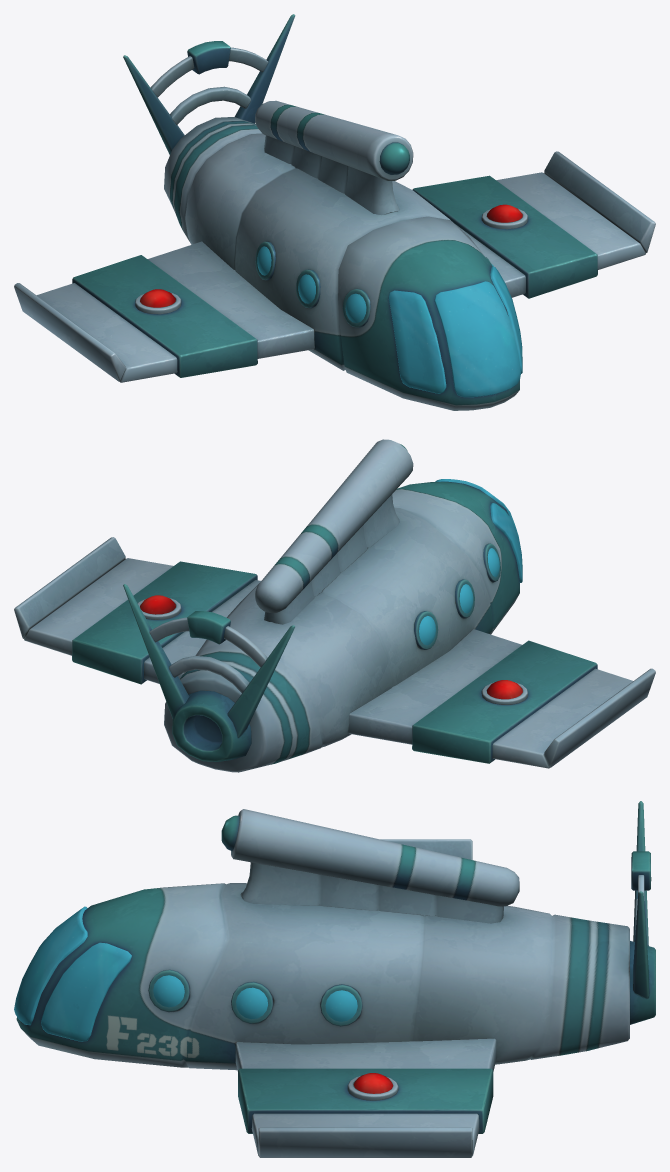
Rendered from Spacehip_F230.fbx.
The picture shows the model from 3 angles, top to bottom: view 1: azimuth 30°, elevation 25°; view 2: azimuth 150°, elevation 25°; view 3: azimuth 270°, elevation 25°; orthographic projection. The views are drawn at different scales.
Parts seen in each view (by area): view 1: Spacehip_F230; view 2: Spacehip_F230; view 3: Spacehip_F230.
Part boxes in pixels (left/top/right/bottom): Spacehip_F230: left=14, top=14, right=655, bottom=410; Spacehip_F230: left=14, top=439, right=655, bottom=772; Spacehip_F230: left=14, top=801, right=655, bottom=1157.
Size of the model in its own units: 1104 by 397 by 1027.
